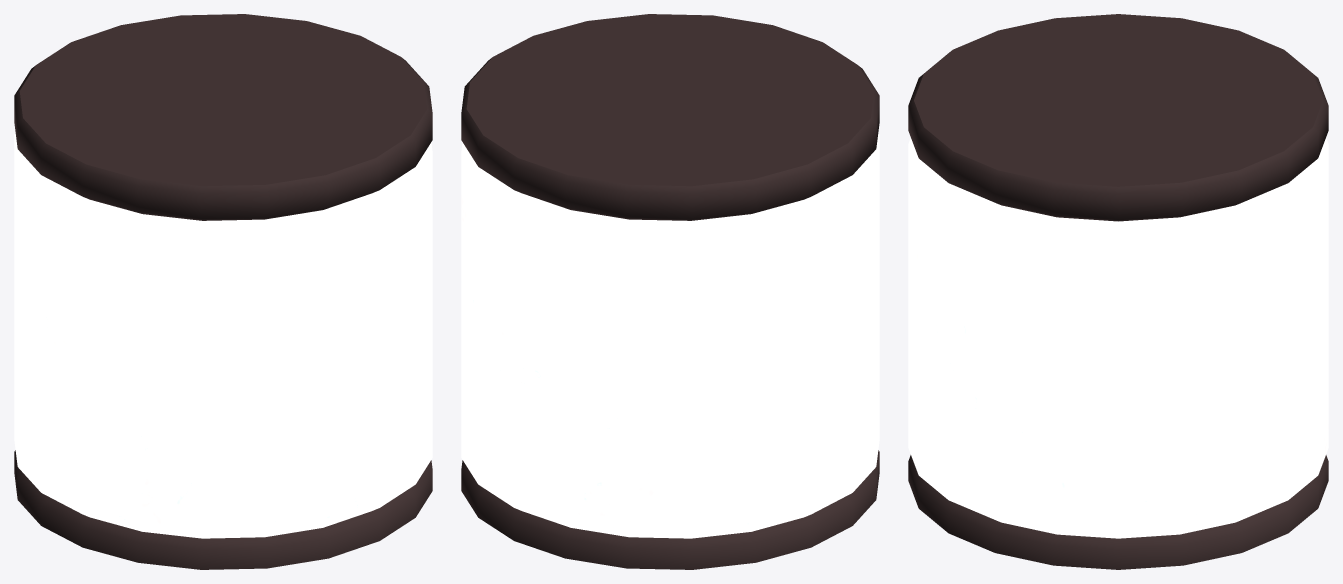
File: 008_pillar_var8.glb
3 views of the same model, side by side, from view 1: azimuth 30°, elevation 25°; view 2: azimuth 150°, elevation 25°; view 3: azimuth 270°, elevation 25° (orthographic).
Visible parts, largest first — view 1: pillar; view 2: pillar; view 3: pillar.
Boxes of the visible parts, bbox=[...] form: pillar: bbox=[14, 14, 432, 569]; pillar: bbox=[461, 14, 879, 569]; pillar: bbox=[908, 14, 1328, 569].
Bounding box in the file's own units: 0.75 × 0.75 × 0.75.
2 materials, 1 textured.
